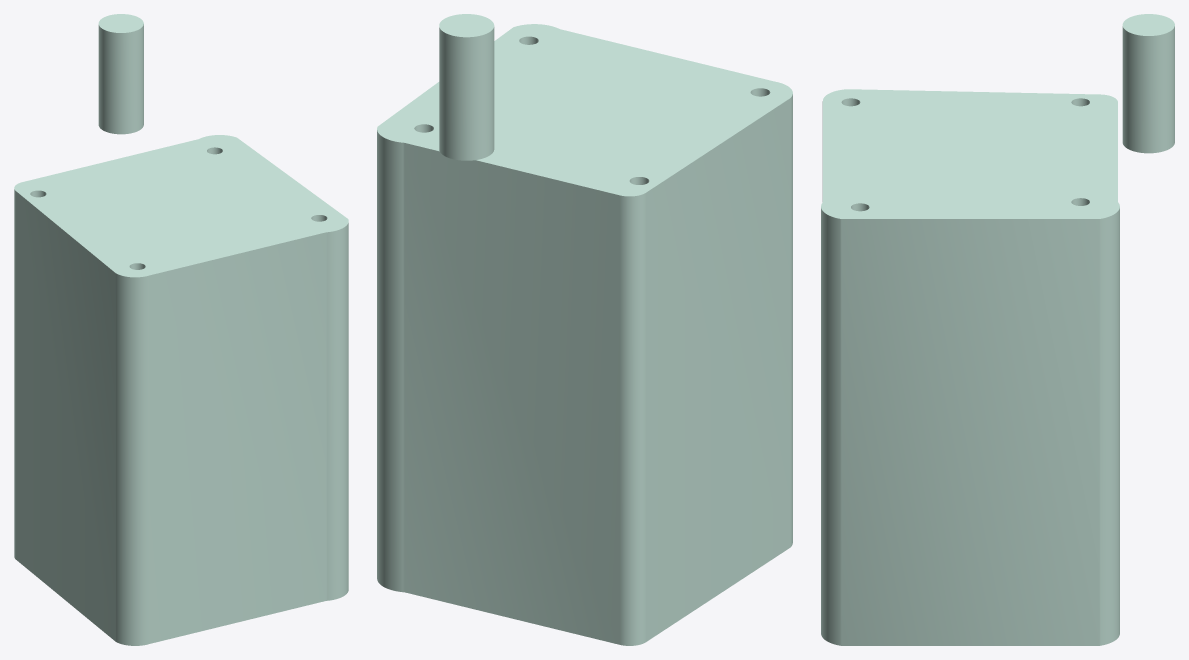
The picture shows the model from 3 angles, left to right: view 1: azimuth 30°, elevation 25°; view 2: azimuth 150°, elevation 25°; view 3: azimuth 270°, elevation 25°; orthographic projection. The views are drawn at different scales.
Visible parts, largest first — view 1: Renderer Node; view 2: Renderer Node; view 3: Renderer Node.
Boxes of the visible parts, x1,y1,x2,y2 form: Renderer Node: (14, 14, 348, 645); Renderer Node: (377, 14, 792, 645); Renderer Node: (821, 14, 1174, 645).
Size of the model in its own units: 0.4641 by 0.9453 by 0.5342.
